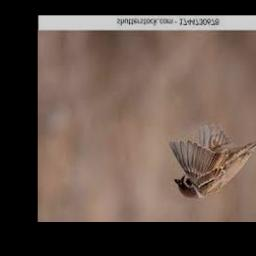Sparrow: (170, 123, 256, 199)
